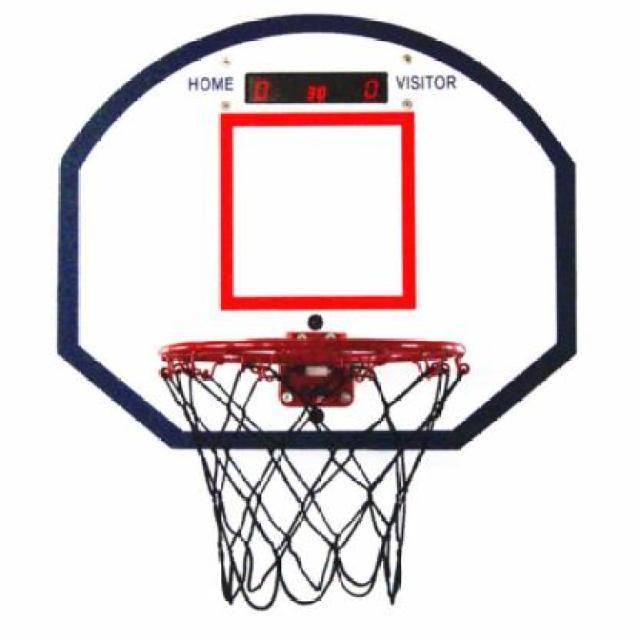rim: (160, 338, 472, 598)
